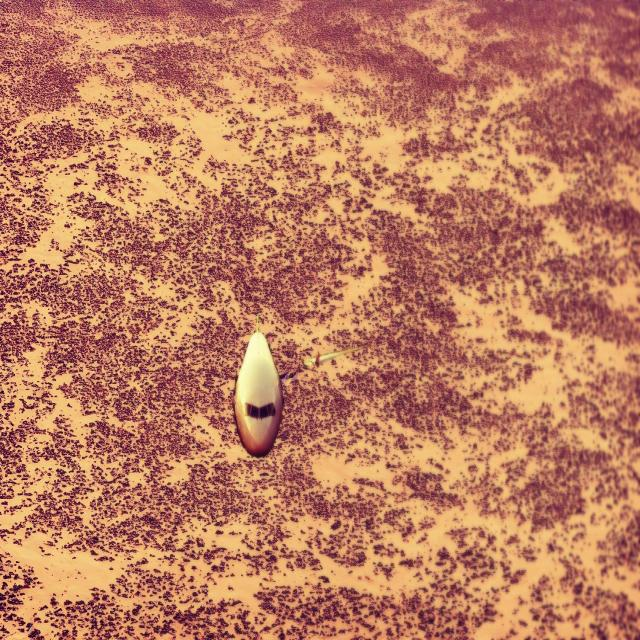airplane: (234, 315, 284, 457)
